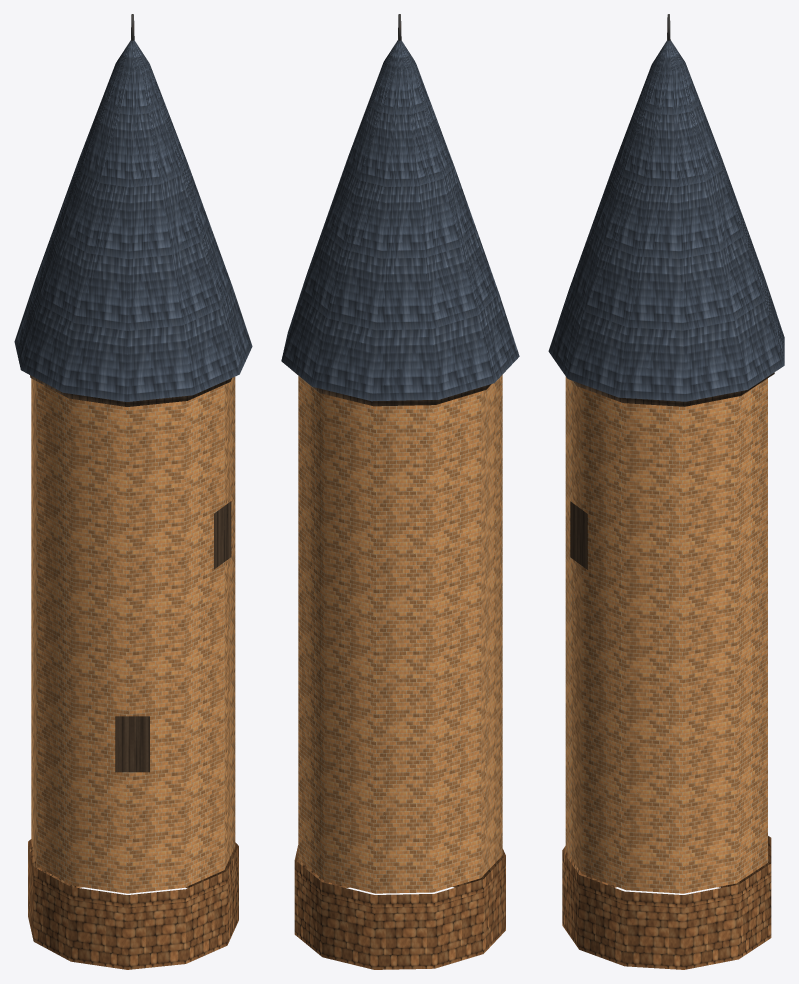
Rendered from Turret_Corner_Ochre_1_LOD1.gltf.
3 views of the same model, side by side, from view 1: azimuth 30°, elevation 25°; view 2: azimuth 150°, elevation 25°; view 3: azimuth 270°, elevation 25° (orthographic).
Visible parts, largest first — view 1: Turret_Corner_Ochre_1_LOD1; view 2: Turret_Corner_Ochre_1_LOD1; view 3: Turret_Corner_Ochre_1_LOD1.
Boxes of the visible parts, <box> form: Turret_Corner_Ochre_1_LOD1: <box>14,14,252,969</box>; Turret_Corner_Ochre_1_LOD1: <box>281,14,519,969</box>; Turret_Corner_Ochre_1_LOD1: <box>548,14,784,969</box>.
Bounding box in the file's own units: 3.46 × 14.6 × 3.43.
5 materials, 5 textured.
